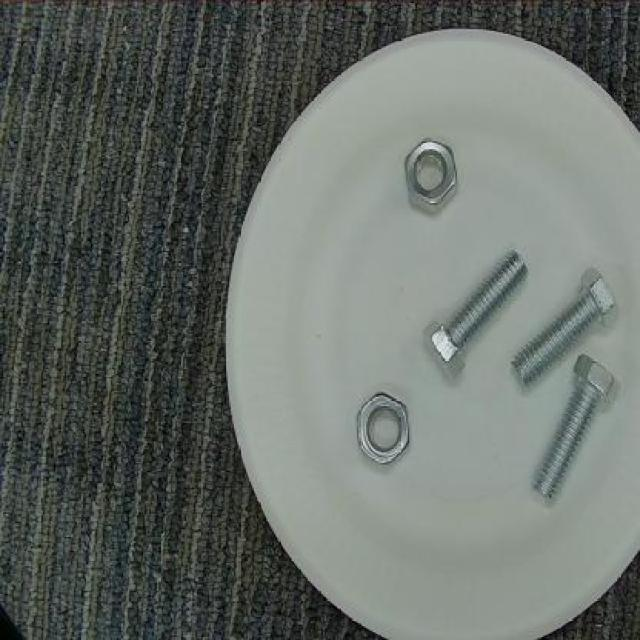Bolt: (525, 354, 620, 511), (421, 246, 532, 380), (514, 265, 622, 386)
Nut: (400, 132, 465, 218), (350, 388, 416, 470)
